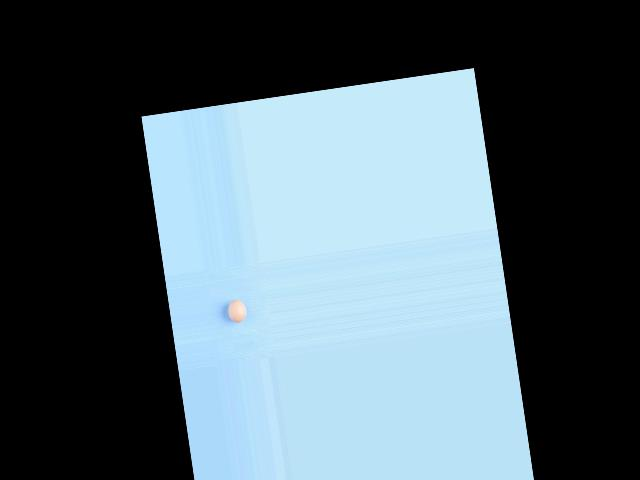egg: (225, 298, 247, 323)
